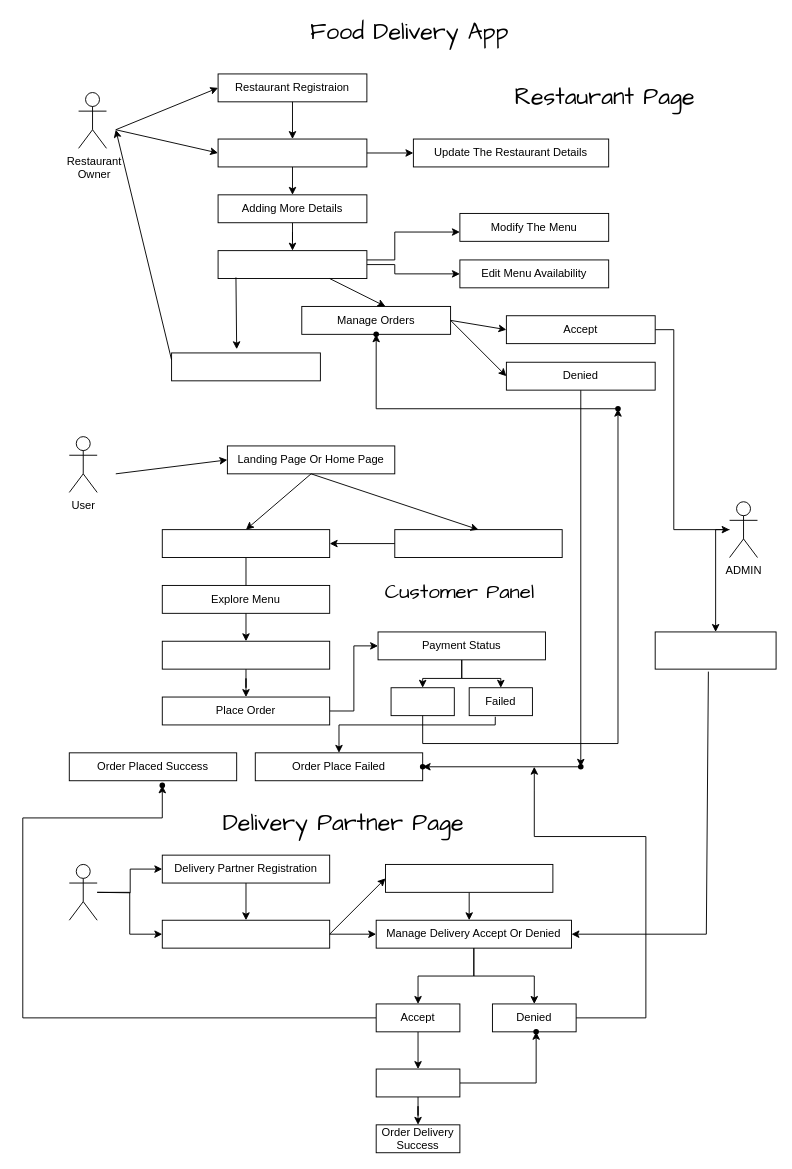
Image size: 792x1169. Some labels were removed from this diagram. Each missing label, with the centre of its shape:
Add Item To Cart: point (245, 654)
Adding Menu: point (292, 264)
Delivery Partner: point (82, 892)
Delivery Partner Dashboard: point (469, 878)
Delivery Partner Login: point (245, 933)
If Delivery Boys Available: point (715, 650)
If Delivery Success: point (417, 1082)
Log Out: point (245, 366)
Restaurant Login: point (292, 152)
Sucess: point (422, 701)
User Login: point (245, 543)
User Registration: point (478, 543)
